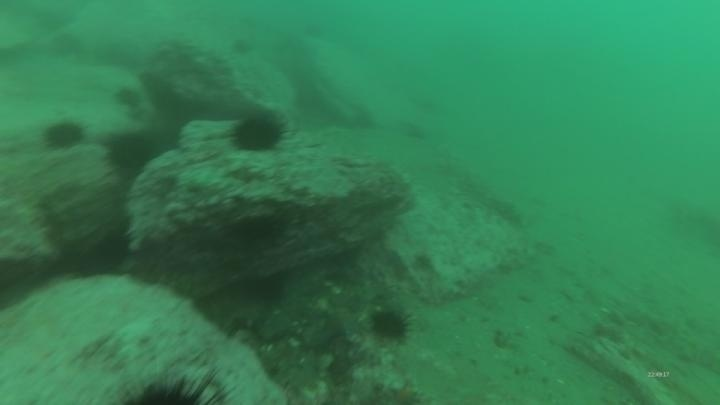echinus: (120, 369, 230, 405), (228, 110, 288, 155), (104, 130, 158, 177), (90, 228, 134, 272), (367, 305, 413, 343), (41, 117, 86, 152), (112, 84, 144, 113), (223, 31, 255, 60), (299, 18, 331, 47)
starfish: (388, 382, 424, 405)
